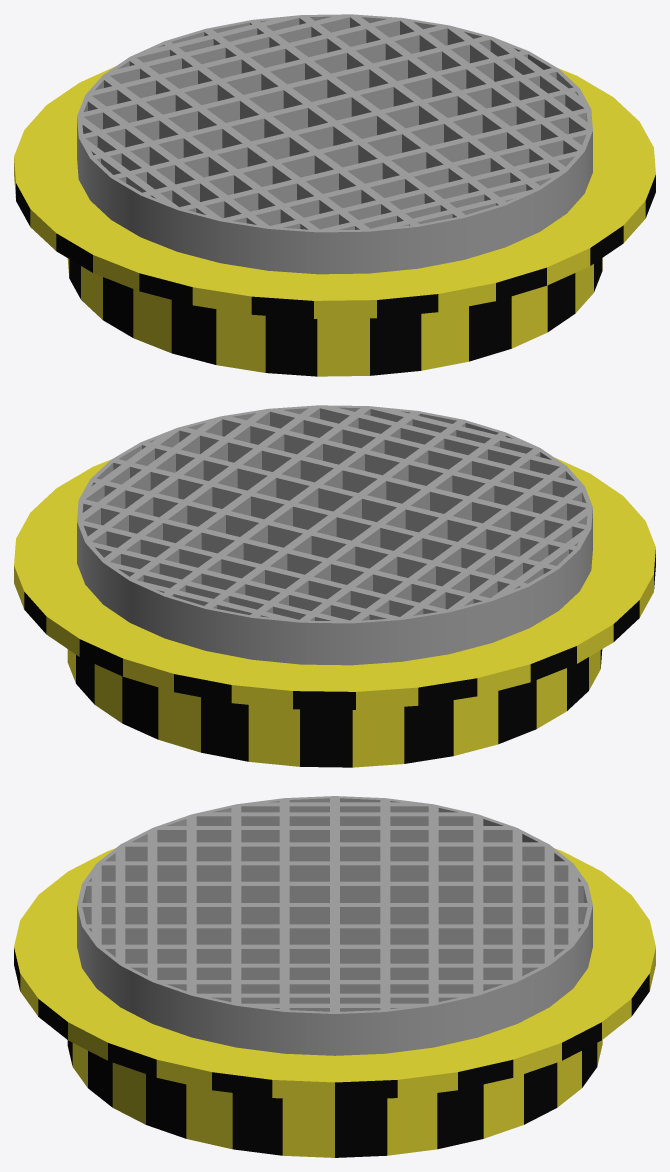
Rendered from uploads_files_3107201_obstacle.fbx.
3 renders of one model, top to bottom at view 1: azimuth 30°, elevation 25°; view 2: azimuth 150°, elevation 25°; view 3: azimuth 270°, elevation 25°, orthographic.
Visible parts, largest first — view 1: pCylinder1, Cylinder.001, Cylinder; view 2: pCylinder1, Cylinder.001, Cylinder; view 3: pCylinder1, Cylinder.001, Cylinder.
Boxes of the visible parts, left/top/right/bottom form: pCylinder1: left=77, top=14, right=592, bottom=274; Cylinder.001: left=14, top=66, right=655, bottom=318; Cylinder: left=67, top=258, right=602, bottom=376; pCylinder1: left=77, top=405, right=592, bottom=665; Cylinder.001: left=14, top=457, right=655, bottom=709; Cylinder: left=67, top=649, right=602, bottom=767; pCylinder1: left=77, top=796, right=592, bottom=1055; Cylinder.001: left=14, top=848, right=655, bottom=1100; Cylinder: left=67, top=1040, right=602, bottom=1157.
Size of the model in its own units: 240 by 57.7 by 240.
